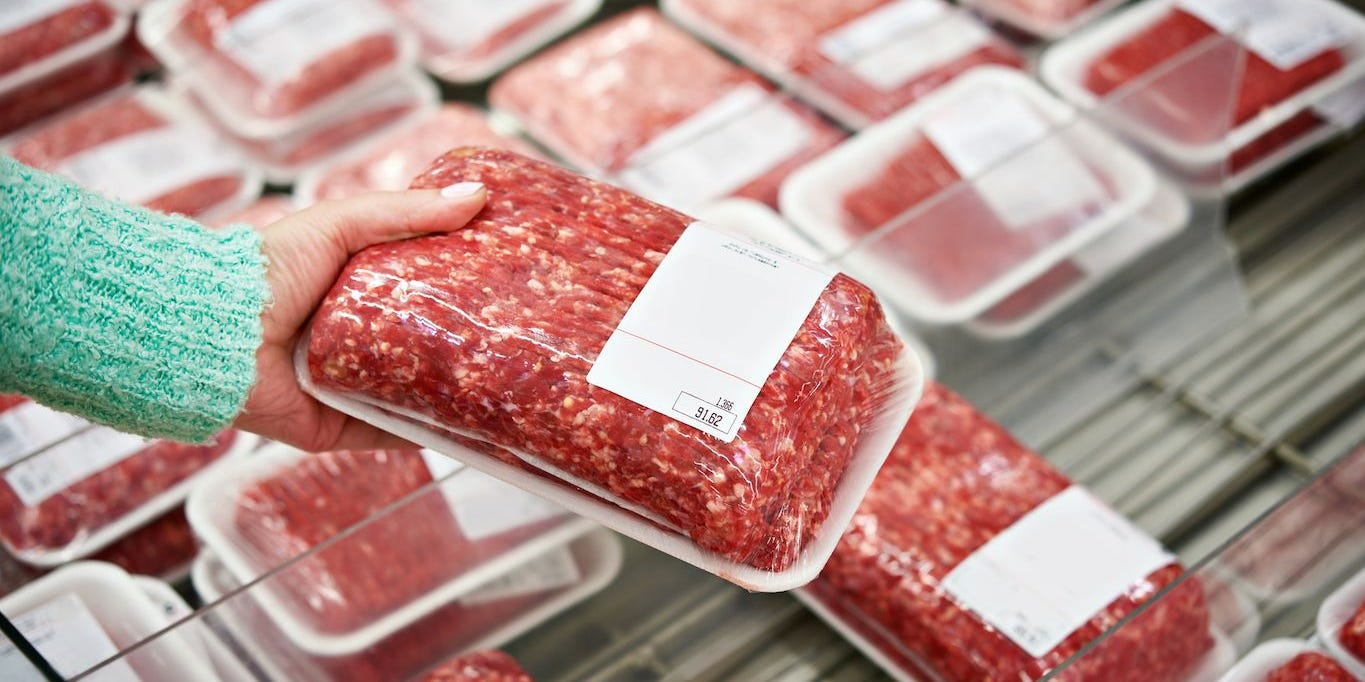ground_beef: (369, 135, 810, 524), (900, 448, 1186, 682), (569, 31, 711, 131)
